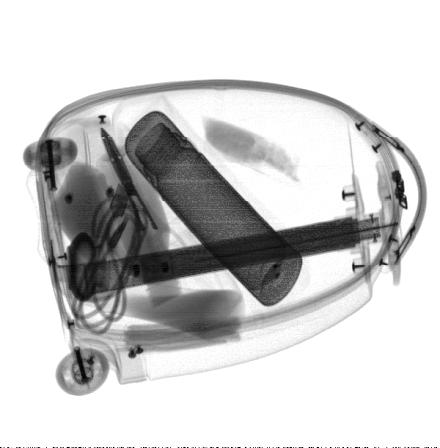Scissors: (99, 124, 191, 286)
